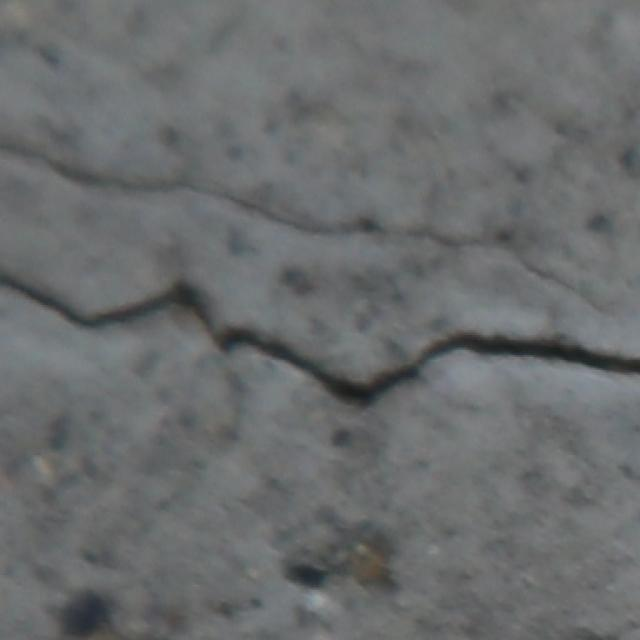Transverse: (0, 134, 640, 418)
